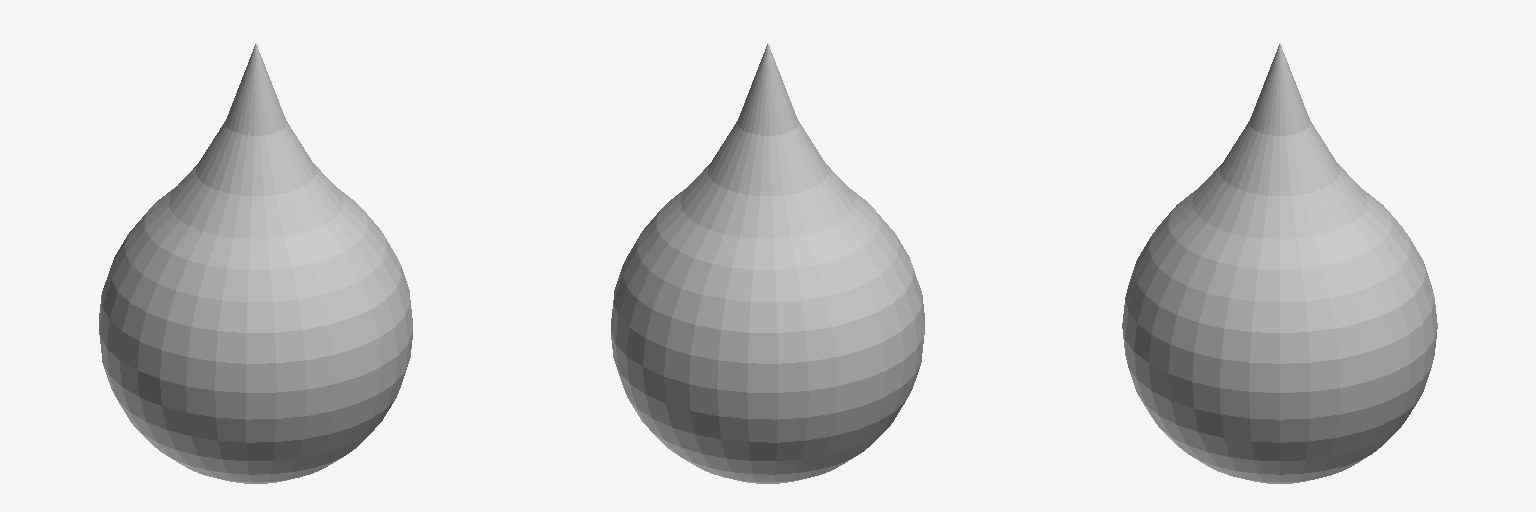
The model's file is Bud.obj.
3 renders of one model, left to right at view 1: azimuth 30°, elevation 25°; view 2: azimuth 150°, elevation 25°; view 3: azimuth 270°, elevation 25°, orthographic.
Parts seen in each view (by area): view 1: Bud_Sphere; view 2: Bud_Sphere; view 3: Bud_Sphere.
Part boxes in pixels (bbox=[...]): Bud_Sphere: bbox=[99, 44, 412, 483]; Bud_Sphere: bbox=[611, 44, 924, 483]; Bud_Sphere: bbox=[1122, 44, 1437, 483].
Bounding box in the file's own units: 0.9845 × 1.47 × 0.9845.